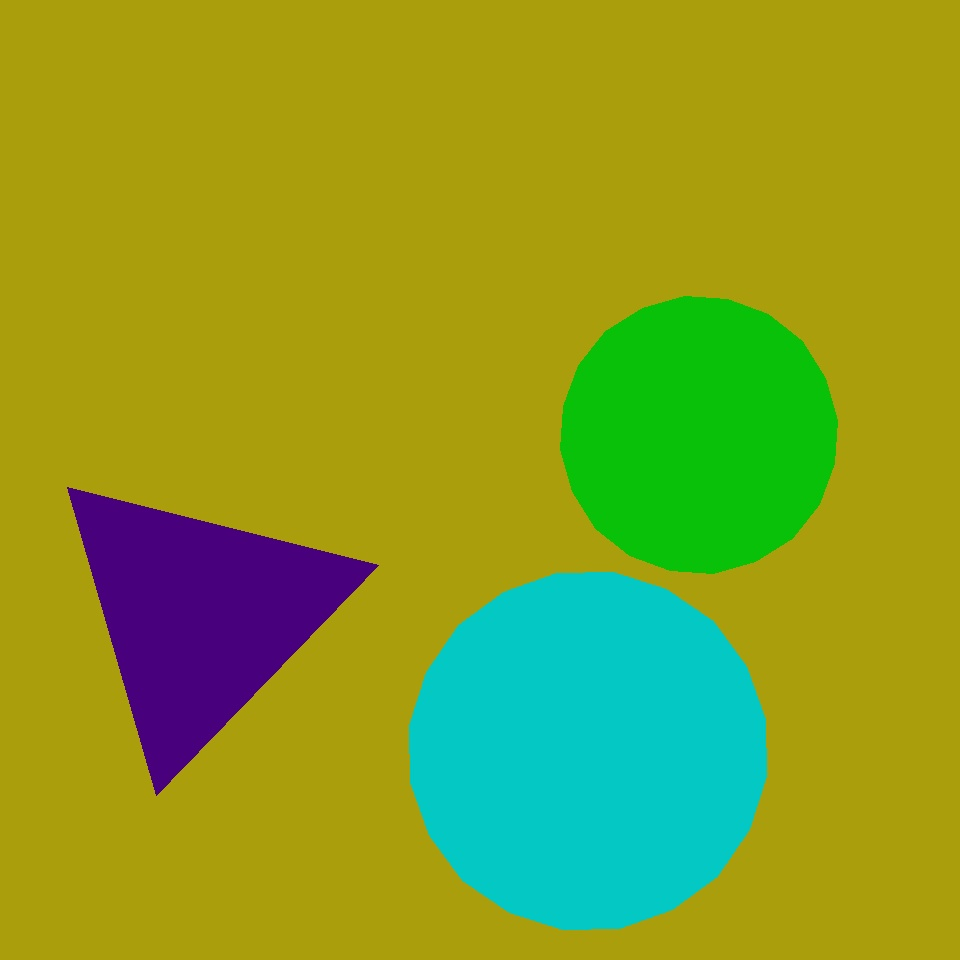circle: (46, 462, 356, 770), (317, 819, 409, 913)
square: (91, 231, 239, 379)
triangle: (410, 573, 766, 930), (560, 296, 838, 574), (556, 631, 727, 802)
